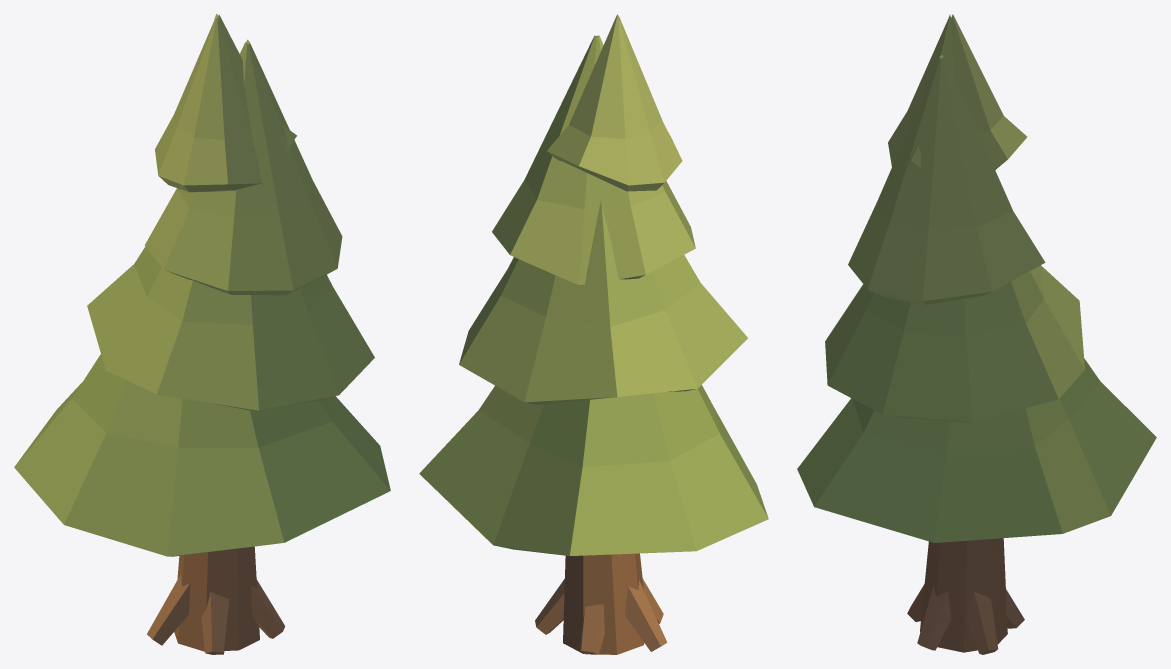
Rendered from forage_5_summer.glb.
The picture shows the model from 3 angles, left to right: view 1: azimuth 30°, elevation 25°; view 2: azimuth 150°, elevation 25°; view 3: azimuth 270°, elevation 25°; orthographic projection.
Visible parts, largest first — view 1: Rohstoff 5 · summer; view 2: Rohstoff 5 · summer; view 3: Rohstoff 5 · summer.
Boxes of the visible parts, x1,y1,x2,y2 form: Rohstoff 5 · summer: (14, 14, 390, 654); Rohstoff 5 · summer: (419, 14, 768, 654); Rohstoff 5 · summer: (797, 14, 1156, 654).
Bounding box in the file's own units: 2.54 × 4.96 × 2.61.
